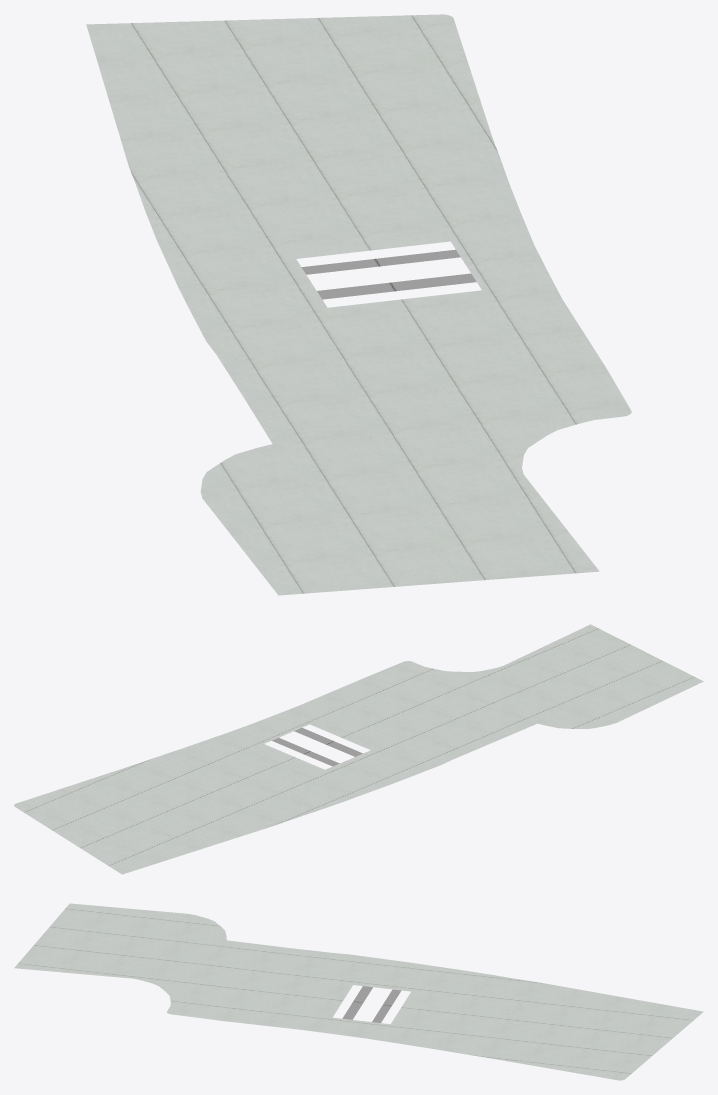
The model's file is STA20_StorerooB01.FBX.
3 views of the same model, one above another, from view 1: azimuth 30°, elevation 25°; view 2: azimuth 150°, elevation 25°; view 3: azimuth 270°, elevation 25° (orthographic). The views are drawn at different scales.
Parts seen in each view (by area): view 1: STA20_StorerooB01; view 2: STA20_StorerooB01; view 3: STA20_StorerooB01.
Boxes of the visible parts, x1=… form: STA20_StorerooB01: x1=86, y1=14, x2=631, y2=595; STA20_StorerooB01: x1=14, y1=624, x2=703, y2=874; STA20_StorerooB01: x1=14, y1=903, x2=703, y2=1080.
Bounding box in the file's own units: 45.57 × 0.0645 × 75.2.
